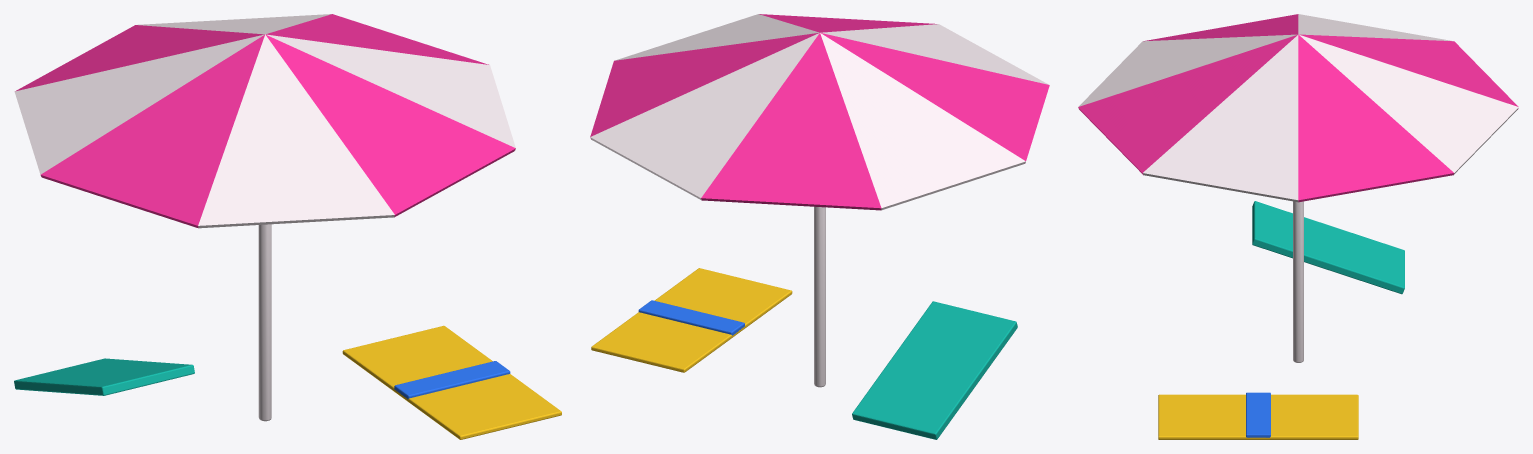
Rendered from payung.glb.
The picture shows the model from 3 angles, left to right: view 1: azimuth 30°, elevation 25°; view 2: azimuth 150°, elevation 25°; view 3: azimuth 270°, elevation 25°; orthographic projection. The views are drawn at different scales.
Parts seen in each view (by area): view 1: kain.005, kain.004, kain.006, kain.003, Cube, kain.007, kain.002, Cube.002, kain, Cylinder, Cube.001, kain.001; view 2: kain.002, kain.003, kain.001, Cube.002, kain.004, Cube, kain, kain.005, kain.007, Cylinder, Cube.001, kain.006; view 3: kain, kain.007, kain.001, kain.006, Cube, Cube.002, kain.002, kain.005, Cylinder, kain.003, kain.004, Cube.001.
Part boxes in pixels (x1=…): kain.005: x1=198, y1=34, x2=394, y2=228; kain.004: x1=40, y1=35, x2=264, y2=228; kain.006: x1=266, y1=35, x2=515, y2=217; kain.003: x1=14, y1=34, x2=264, y2=177; Cube: x1=342, y1=325, x2=561, y2=439; kain.007: x1=265, y1=34, x2=515, y2=151; kain.002: x1=15, y1=25, x2=264, y2=91; Cube.002: x1=14, y1=358, x2=194, y2=395; kain: x1=266, y1=14, x2=488, y2=64; Cylinder: x1=258, y1=224, x2=271, y2=421; Cube.001: x1=394, y1=361, x2=510, y2=399; kain.001: x1=138, y1=14, x2=331, y2=34; kain.002: x1=701, y1=33, x2=881, y2=210; kain.003: x1=820, y1=33, x2=1025, y2=210; kain.001: x1=590, y1=33, x2=819, y2=200; Cube.002: x1=852, y1=301, x2=1017, y2=439; kain.004: x1=821, y1=33, x2=1049, y2=161; Cube: x1=591, y1=268, x2=792, y2=372; kain: x1=590, y1=32, x2=819, y2=139; kain.005: x1=821, y1=24, x2=1048, y2=84; kain.007: x1=615, y1=14, x2=818, y2=60; Cylinder: x1=814, y1=206, x2=825, y2=387; Cube.001: x1=638, y1=300, x2=744, y2=335; kain.006: x1=759, y1=14, x2=936, y2=32; kain: x1=1298, y1=34, x2=1454, y2=202; kain.007: x1=1142, y1=35, x2=1298, y2=202; kain.001: x1=1299, y1=35, x2=1518, y2=174; kain.006: x1=1078, y1=35, x2=1297, y2=174; Cube: x1=1158, y1=394, x2=1358, y2=439; Cube.002: x1=1252, y1=201, x2=1404, y2=294; kain.002: x1=1299, y1=34, x2=1518, y2=109; kain.005: x1=1078, y1=34, x2=1297, y2=109; Cylinder: x1=1293, y1=201, x2=1303, y2=362; kain.003: x1=1298, y1=14, x2=1453, y2=41; kain.004: x1=1143, y1=14, x2=1298, y2=41; Cube.001: x1=1246, y1=392, x2=1270, y2=437.
Bounding box in the file's own units: 4.4 × 3.6 × 4.4.
